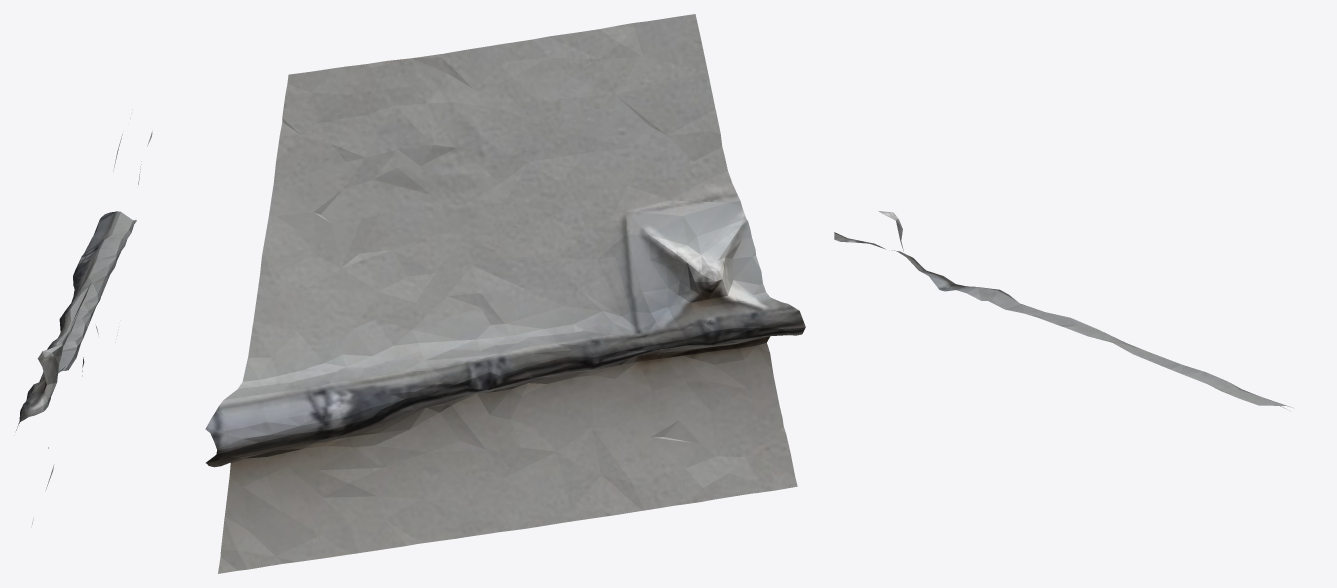
3 renders of one model, left to right at view 1: azimuth 30°, elevation 25°; view 2: azimuth 150°, elevation 25°; view 3: azimuth 270°, elevation 25°, orthographic. The views are drawn at different scales.
Size of the model in its own units: 0.6914 by 0.8374 by 0.8374.
3 materials, 3 textured.
